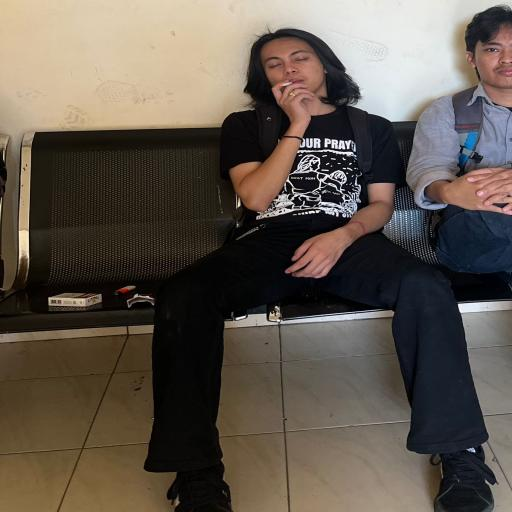terdeteksi merokok: (260, 43, 326, 112)
